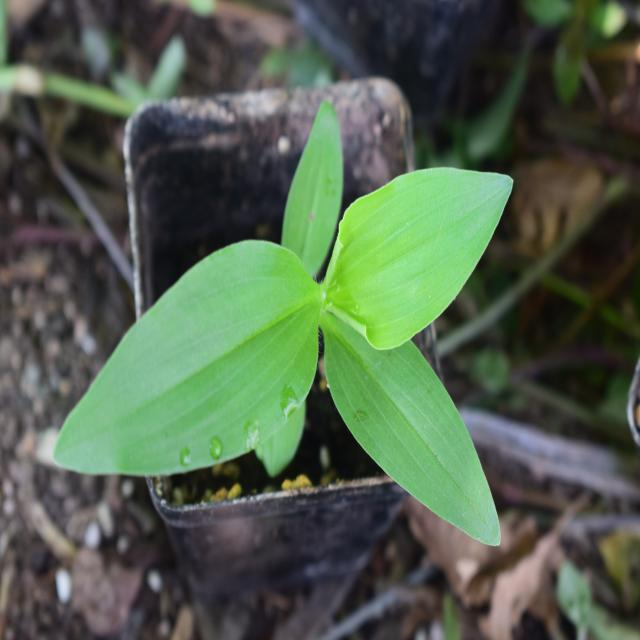Common Dayflower: (70, 140, 507, 553)
